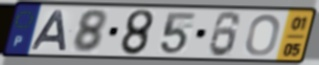5: (159, 11, 199, 56)
6: (207, 10, 242, 59)
8: (119, 8, 156, 57), (72, 7, 109, 55)
A: (30, 9, 69, 52)
O: (244, 13, 282, 58)
